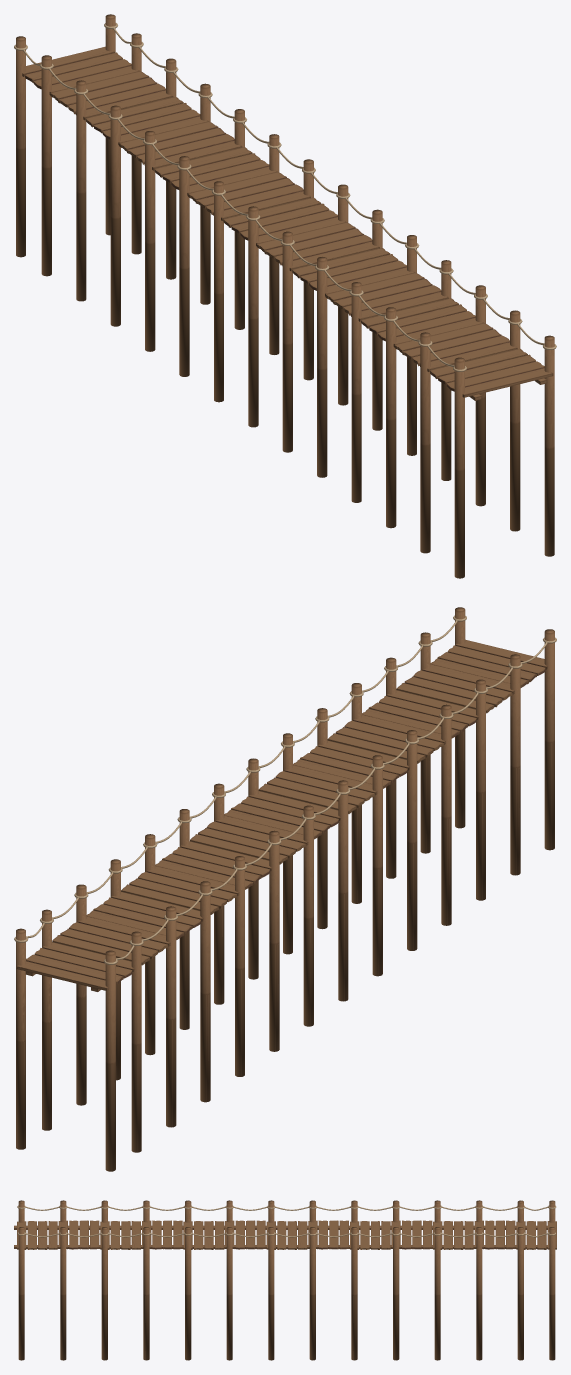
The model's file is dock.fbx.
3 views of the same model, one above another, from view 1: azimuth 30°, elevation 25°; view 2: azimuth 150°, elevation 25°; view 3: azimuth 270°, elevation 25° (orthographic). The views are drawn at different scales.
Visible parts, largest first — view 1: dock; view 2: dock; view 3: dock.
Part boxes in pixels (box(x1,y1,x2,y2)): dock: box(14, 14, 556, 578); dock: box(14, 607, 556, 1171); dock: box(14, 1200, 556, 1360).
Bounding box in the file's own units: 906 × 1837 × 6902.
Materials: 1 (1 with a texture image).
